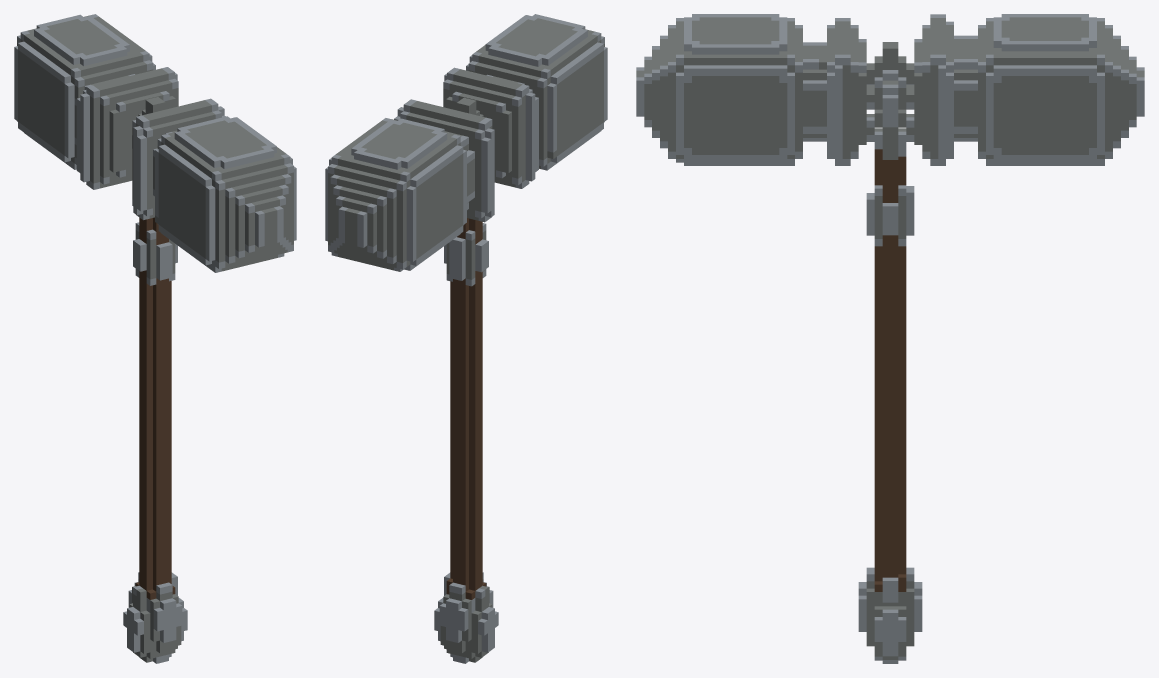
Rendered from weapon_battlehammer.glb.
The picture shows the model from 3 angles, left to right: view 1: azimuth 30°, elevation 25°; view 2: azimuth 150°, elevation 25°; view 3: azimuth 270°, elevation 25°; orthographic projection. The views are drawn at different scales.
Parts seen in each view (by area): view 1: weapon_battlehammer; view 2: weapon_battlehammer; view 3: weapon_battlehammer.
Part boxes in pixels (x1,y1,x2,y2): weapon_battlehammer: (14, 14, 296, 663); weapon_battlehammer: (325, 14, 607, 663); weapon_battlehammer: (636, 14, 1144, 663).
Size of the model in its own units: 1.5 by 8.7 by 6.4.
Materials: 1 (1 with a texture image).
